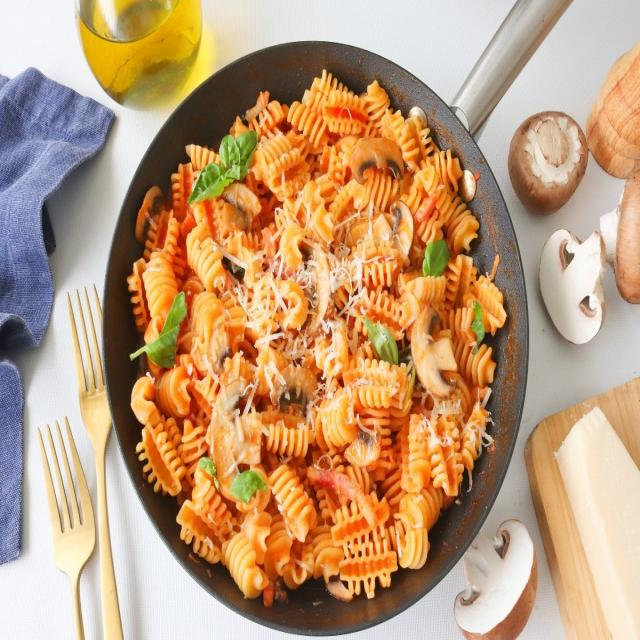pasta: (112, 69, 512, 620)
